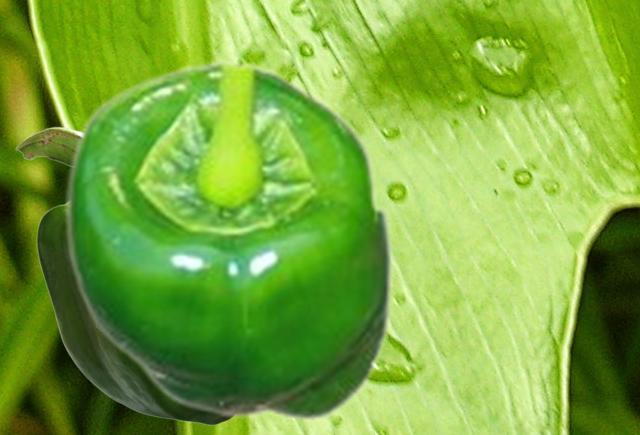bell_pepper: (62, 58, 394, 421), (15, 126, 231, 424)
